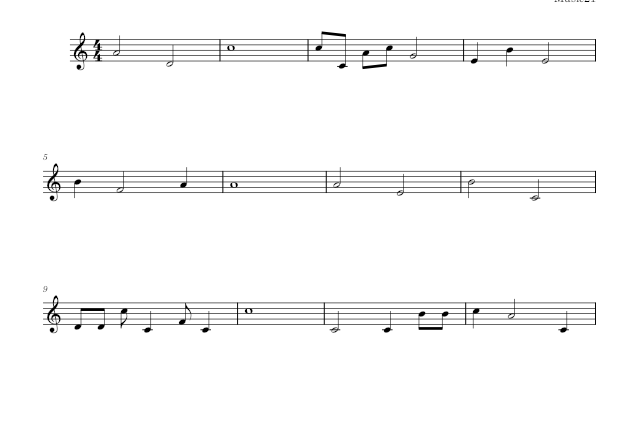Treble Clef: (70, 28, 92, 74), (43, 295, 66, 335), (44, 162, 65, 203)
